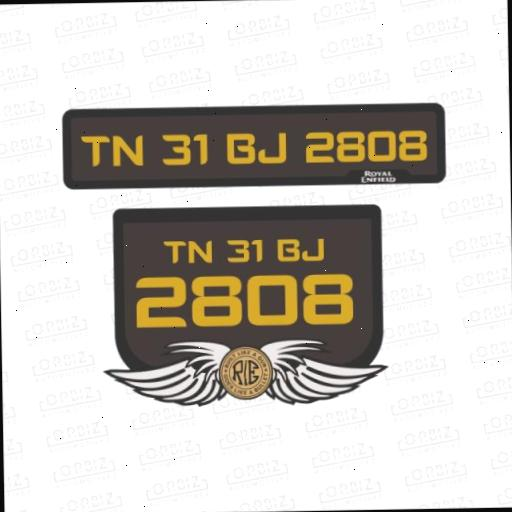number plate: (113, 210, 380, 364), (66, 104, 444, 185)
